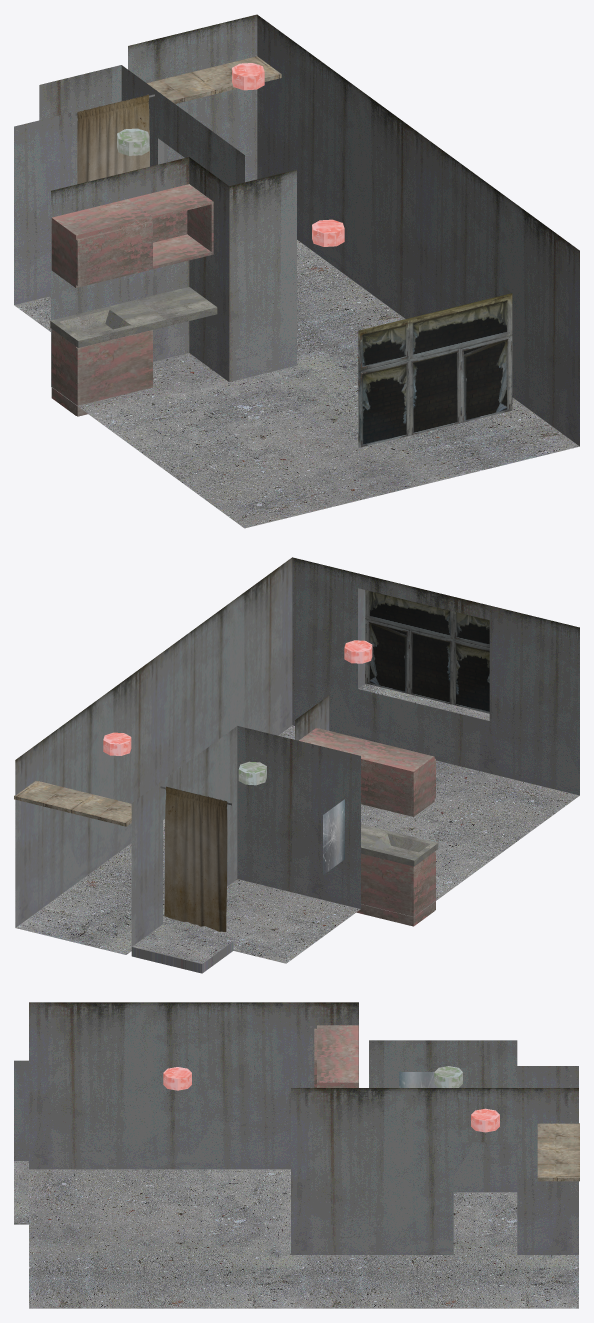
Rendered from appartment_inside.glb.
3 renders of one model, top to bottom at view 1: azimuth 30°, elevation 25°; view 2: azimuth 150°, elevation 25°; view 3: azimuth 270°, elevation 25°, orthographic. The views are drawn at different scales.
Parts seen in each view (by area): view 1: AppartmentInside-col, Kitchen, ShowerCurtain, Lights; view 2: AppartmentInside-col, Kitchen, ShowerCurtain, Lights, Mirror; view 3: AppartmentInside-col, Kitchen, Lights, Mirror.
Boxes of the visible parts, bbox=[...] form: AppartmentInside-col: bbox=[14, 14, 579, 528]; Kitchen: bbox=[50, 184, 217, 416]; ShowerCurtain: bbox=[75, 94, 154, 184]; Lights: bbox=[117, 63, 344, 246]; AppartmentInside-col: bbox=[14, 557, 579, 973]; Kitchen: bbox=[299, 728, 438, 926]; ShowerCurtain: bbox=[160, 786, 231, 932]; Lights: bbox=[103, 640, 372, 785]; Mirror: bbox=[323, 799, 344, 874]; AppartmentInside-col: bbox=[14, 1002, 579, 1308]; Kitchen: bbox=[314, 1025, 358, 1087]; Lights: bbox=[163, 1066, 499, 1132]; Mirror: bbox=[399, 1072, 437, 1087].
Size of what is drawn, in the model's own units: 6.03 by 3.55 by 10.29.
Materials: 9 (9 with a texture image).
